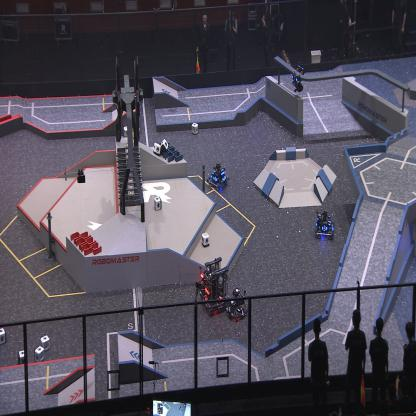car: (197, 256, 230, 314), (225, 286, 250, 322), (315, 209, 335, 240), (208, 160, 230, 188)
